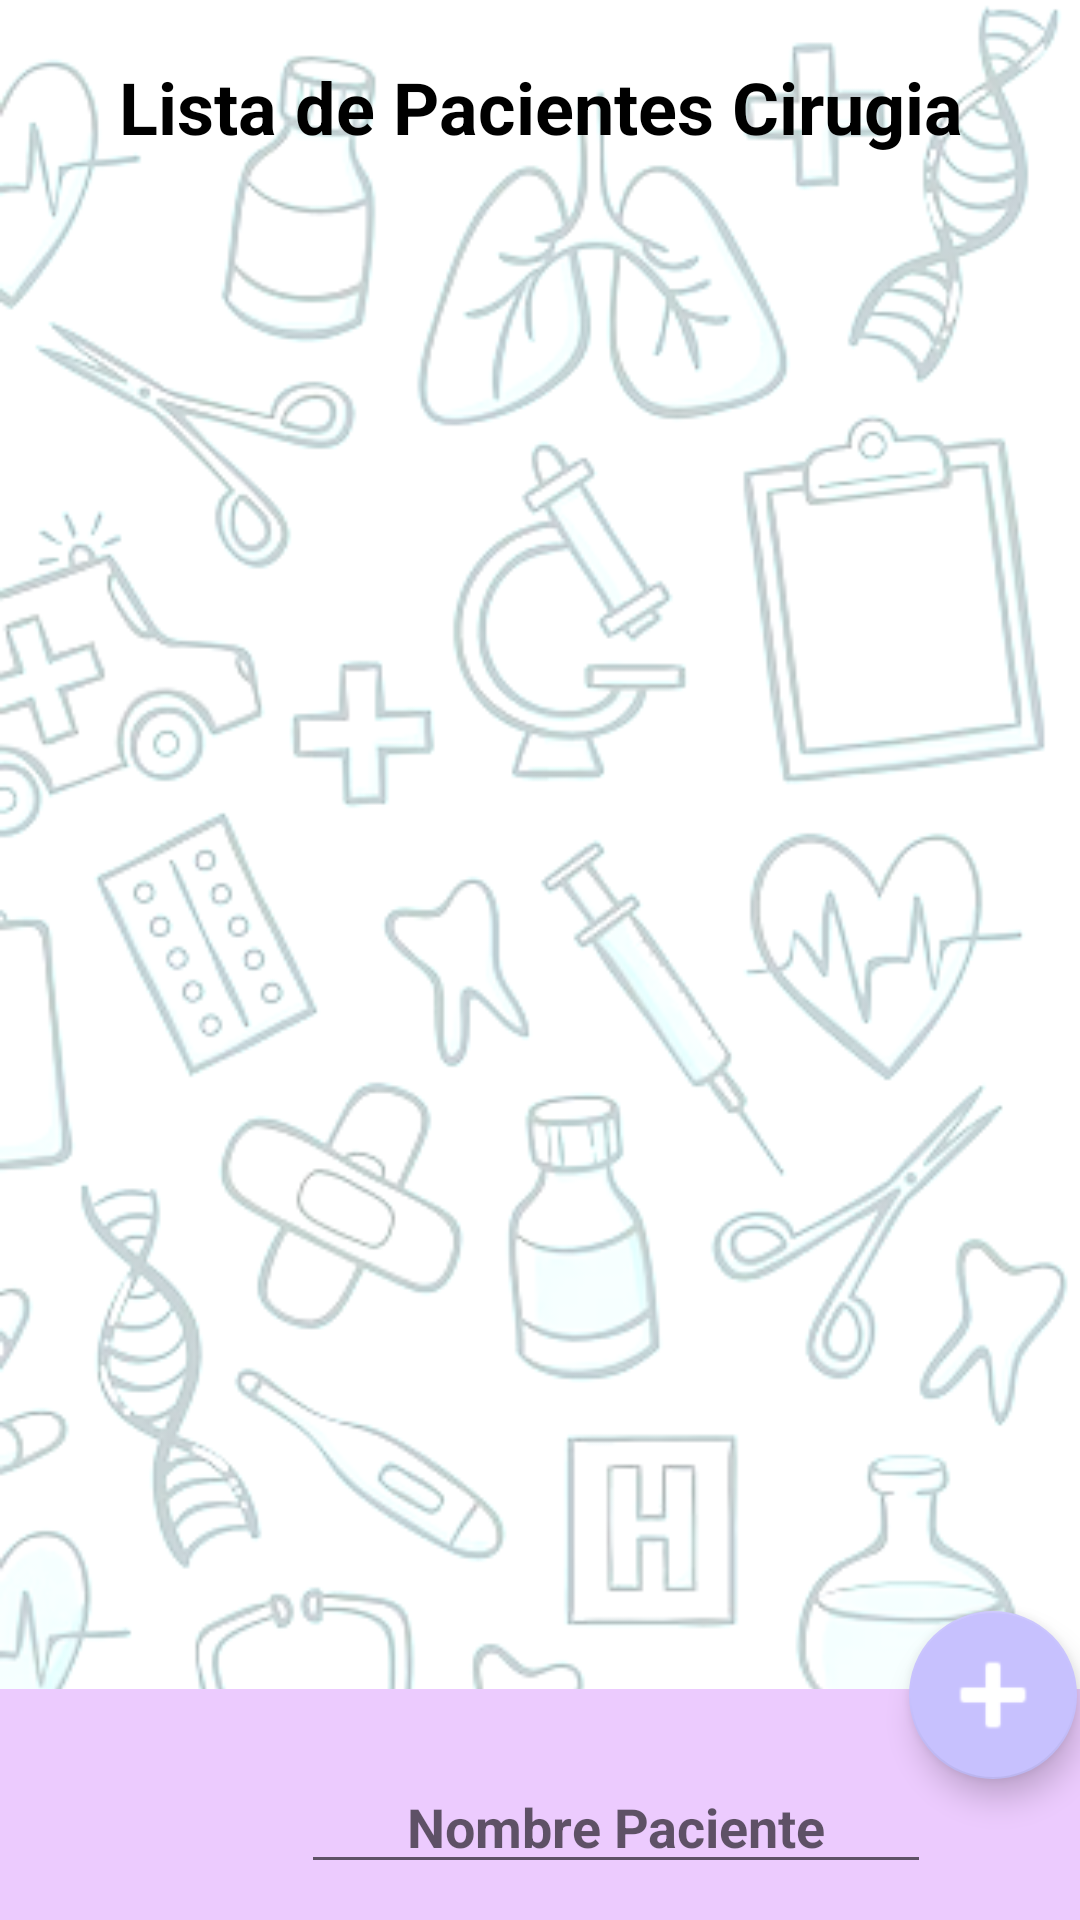

Screen size 1080px x 1920px. Icon name, then its center in pixels as point (x, y):
add: point (993, 1695)
